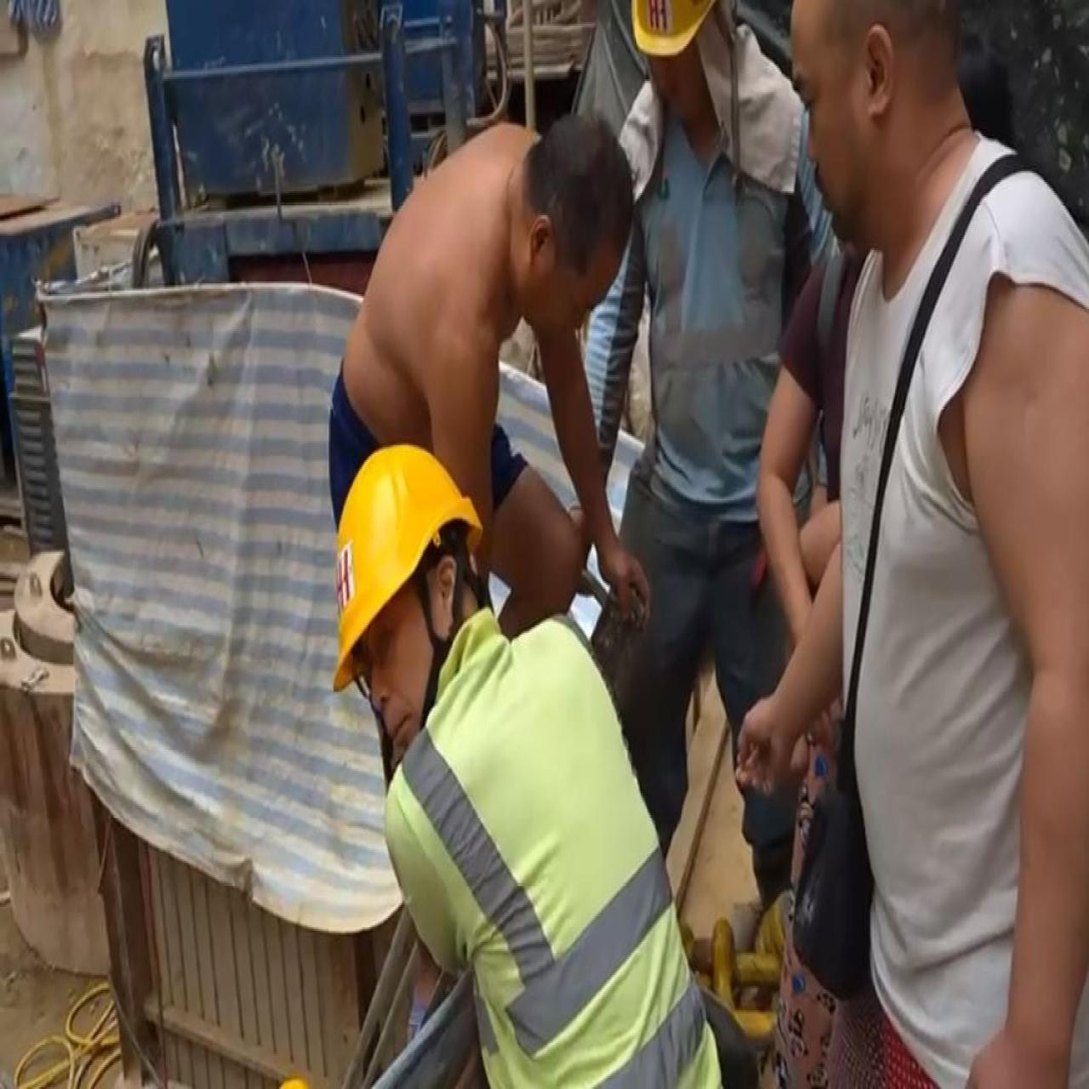NO_Safety_Vest: (839, 194, 1089, 932), (399, 615, 738, 1089), (625, 78, 804, 517), (334, 100, 532, 486)
Person: (742, 7, 1087, 1085), (303, 407, 751, 1089), (582, 4, 851, 936), (315, 72, 660, 648)
